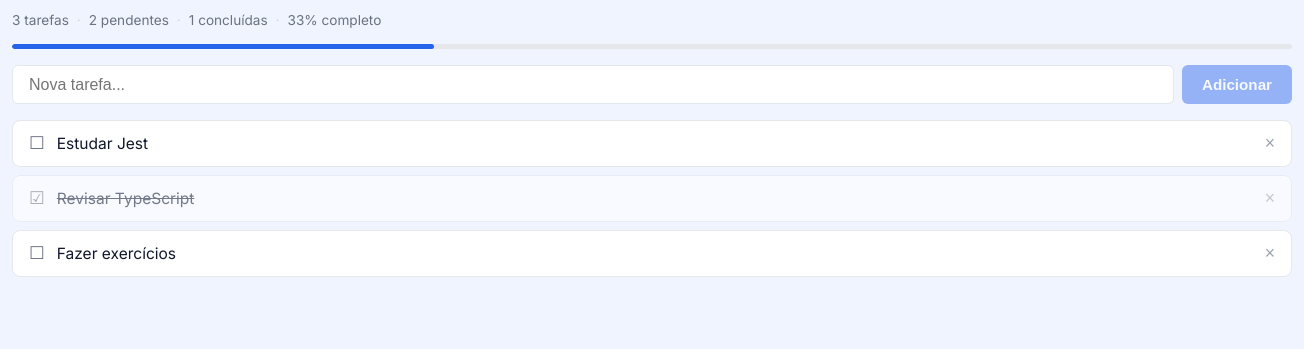
ListaDeTarefas — adicionar tarefa › nova tarefa aparece no topo da lista
Type "Tarefa do topo" into the field with test id "input-nova-tarefa" at (593, 85), box [12,65,1174,104]
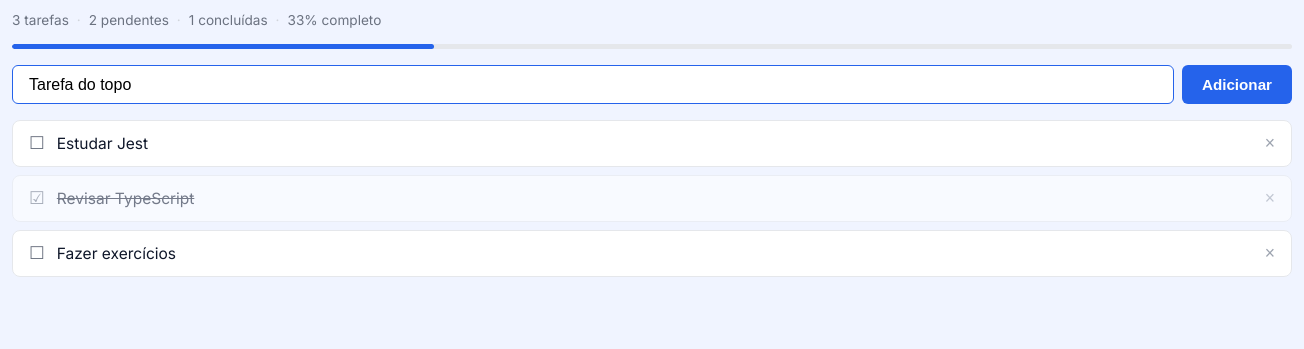
Submit the form with test id "form-nova-tarefa", box [12,65,1292,104]
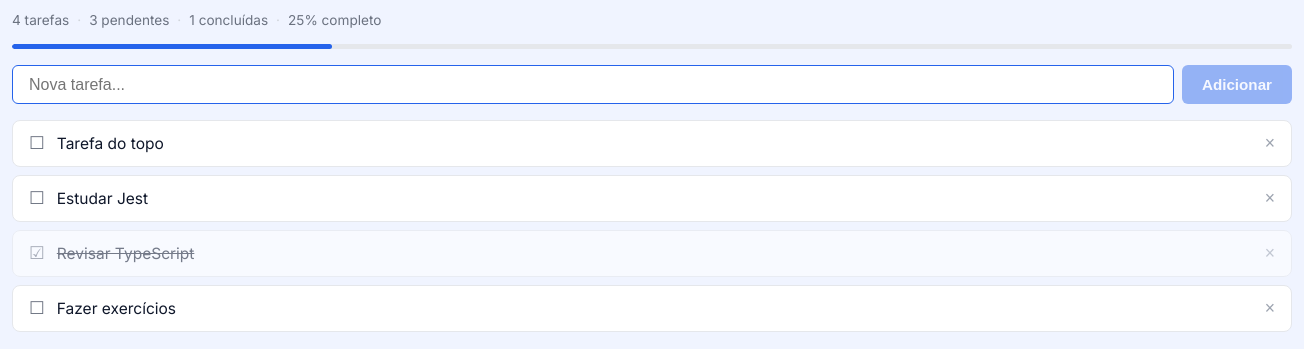
Expected: the list item "☐ Tarefa do topo ×" is shown, [12,120,1292,167]
